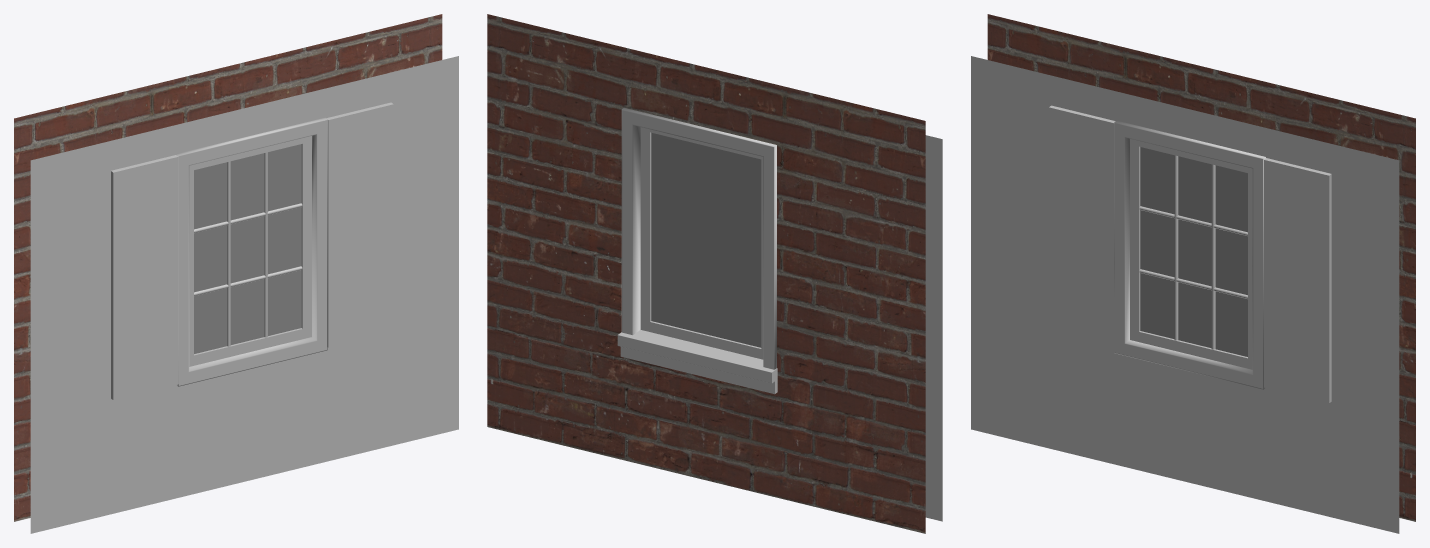
Rendered from In_WallUp_Window_Single_3x.FBX.
3 views of the same model, side by side, from view 1: azimuth 30°, elevation 25°; view 2: azimuth 150°, elevation 25°; view 3: azimuth 330°, elevation 25° (orthographic). The views are drawn at different scales.
Visible parts, largest first — view 1: WallUp_Window_Single_3x; view 2: WallUp_Window_Single_3x; view 3: WallUp_Window_Single_3x.
Boxes of the visible parts, x1=… form: WallUp_Window_Single_3x: x1=14, y1=14, x2=458, y2=533; WallUp_Window_Single_3x: x1=487, y1=14, x2=942, y2=533; WallUp_Window_Single_3x: x1=971, y1=14, x2=1415, y2=533.
Size of the model in its own units: 300 by 270 by 29.86.
